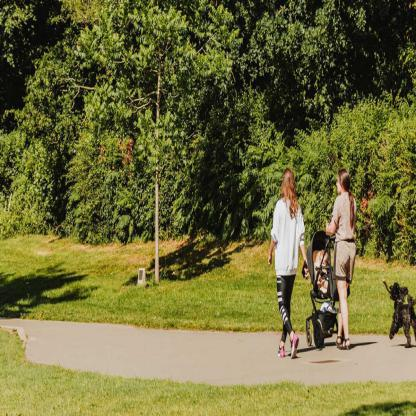person: (273, 163, 308, 359), (328, 168, 358, 350)
